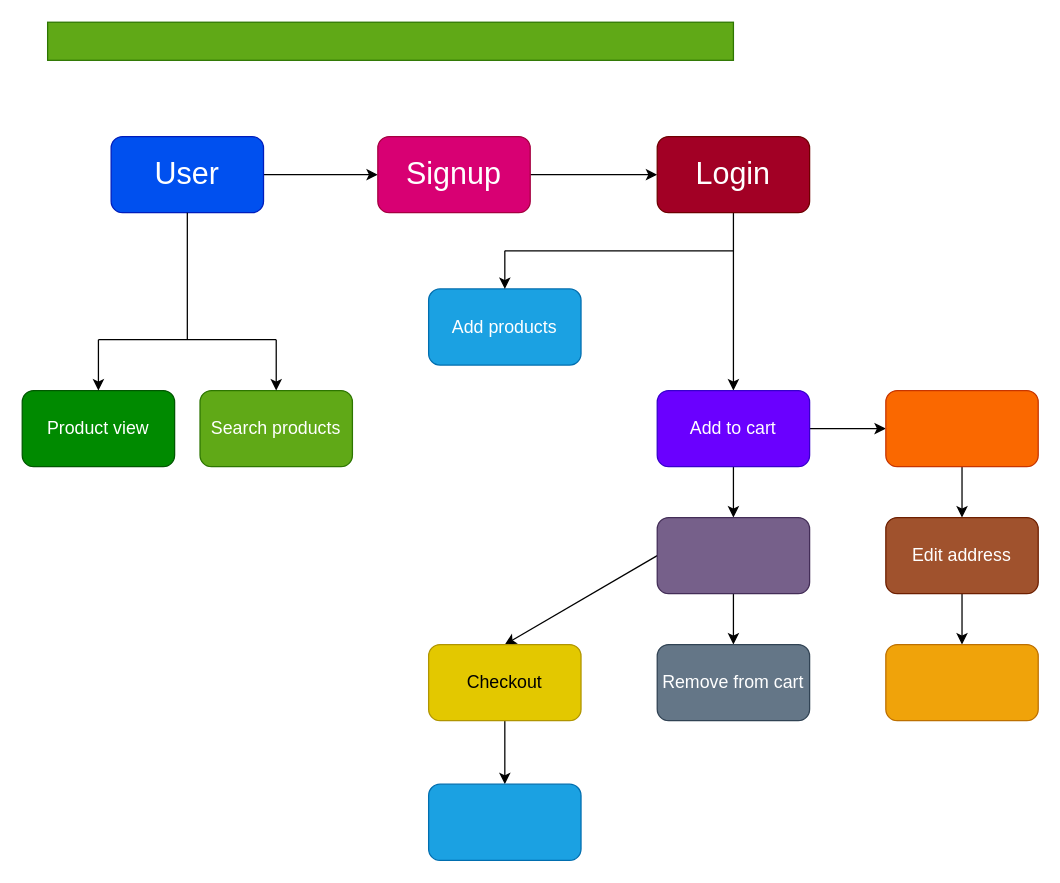
The diagram is 1060 pixels wide and 883 high, and some of its shapes have lost their labels. Here are the shapes that lost their labels. From the top down, the centre of each, then its label:
At point (389, 40): "Ecommerce Project - Golang Backend".
At point (961, 428): "Add address".
At point (733, 555): "List cart".
At point (961, 682): "Delete address".
At point (504, 821): "Instant Buy".
